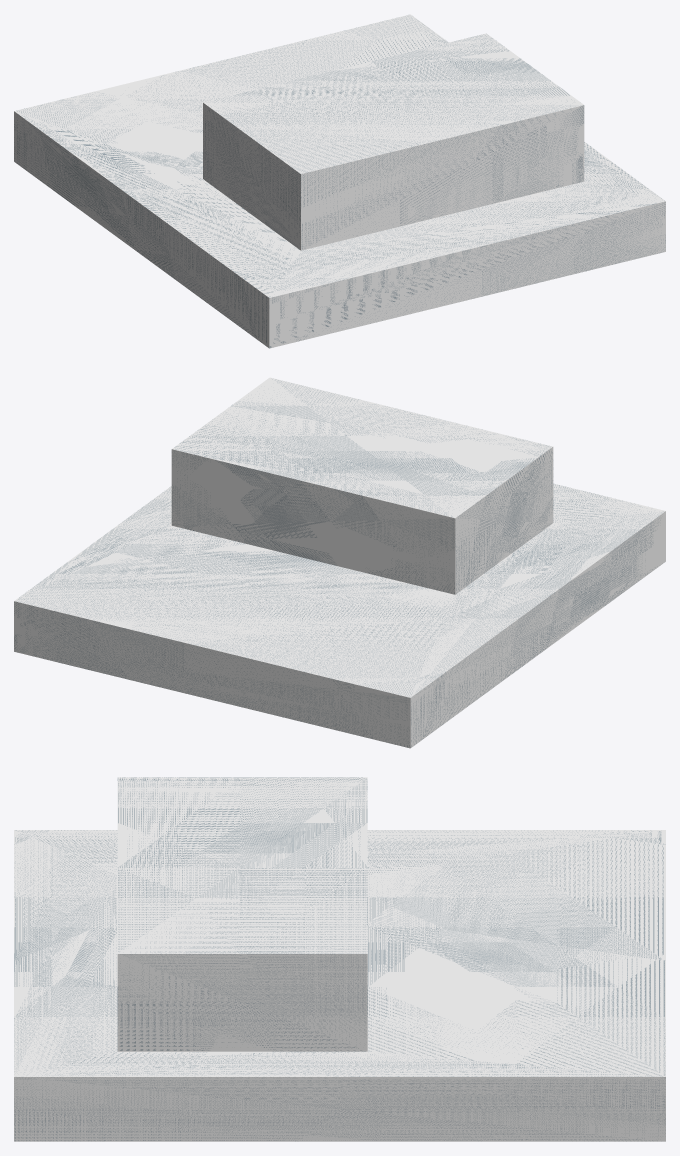
Rendered from sketchuptest.dae.
The picture shows the model from 3 angles, top to bottom: view 1: azimuth 30°, elevation 25°; view 2: azimuth 150°, elevation 25°; view 3: azimuth 270°, elevation 25°; orthographic projection. The views are drawn at different scales.
Visible parts, largest first — view 1: SketchUp (×2); view 2: SketchUp (×2); view 3: SketchUp (×2).
Part boxes in pixels (<box>): SketchUp (×2): <box>14,14,665,348</box>; SketchUp (×2): <box>14,377,665,748</box>; SketchUp (×2): <box>14,777,665,1141</box>.
Size of the model in its own units: 246 by 274 by 75.2.
